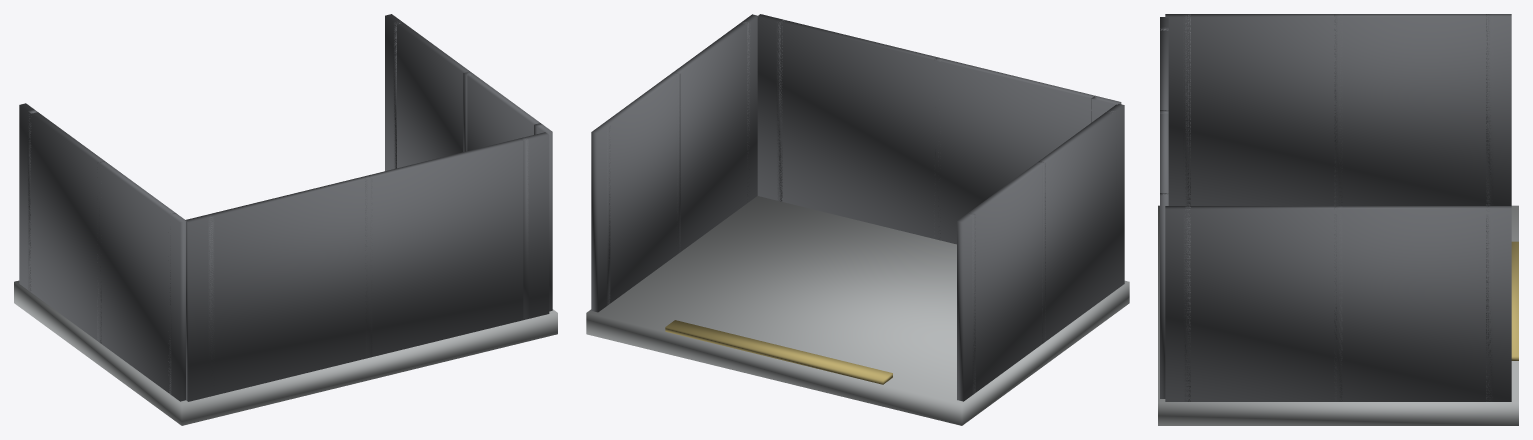
File: floor_w220_d170_three.glb
3 views of the same model, side by side, from view 1: azimuth 30°, elevation 25°; view 2: azimuth 150°, elevation 25°; view 3: azimuth 270°, elevation 25° (orthographic). The views are drawn at different scales.
Parts seen in each view (by area): view 1: world; view 2: world; view 3: world.
Part boxes in pixels (bbox=[...]): world: bbox=[14, 14, 557, 425]; world: bbox=[586, 14, 1129, 425]; world: bbox=[1158, 14, 1518, 425].
Bounding box in the file's own units: 2.2 × 1.12 × 1.7.
